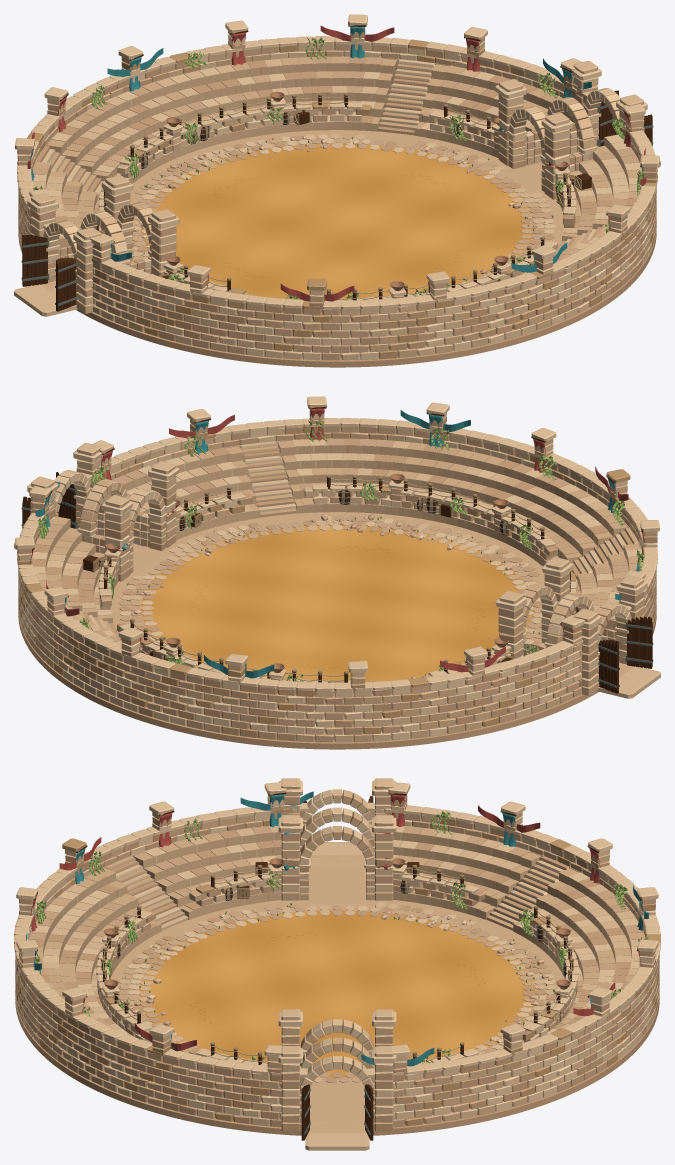
File: spellblade_arena.glb
3 renders of one model, top to bottom at view 1: azimuth 30°, elevation 25°; view 2: azimuth 150°, elevation 25°; view 3: azimuth 270°, elevation 25°, orthographic.
Visible parts, largest first — view 1: Arena_Floor | golden sand · baked PBR, Arena_Walls | sandstone 4, Arena_Stands | sandstone 1, Arena_Walls | sandstone 0, Arena_Walls | sandstone 2, Arena_Walls | sandstone 3, Arena_Walls | sandstone 1, Arena_Floor | sandstone 1, Arena_Floor | sandstone 0, Arena_Gates | sandstone 2, Arena_Gates | sandstone 4, Arena_Walls | sandstone tile · baked (+27 smaller); view 2: Arena_Floor | golden sand · baked PBR, Arena_Walls | sandstone 4, Arena_Stands | sandstone 1, Arena_Walls | sandstone 1, Arena_Walls | sandstone 0, Arena_Walls | sandstone 3, Arena_Walls | sandstone 2, Arena_Floor | sandstone 1, Arena_Floor | sandstone 0, Arena_Gates | sandstone 2, Arena_Gates | sandstone 4, Arena_Stands | sandstone 3 (+27 smaller); view 3: Arena_Floor | golden sand · baked PBR, Arena_Walls | sandstone 4, Arena_Stands | sandstone 1, Arena_Floor | sandstone 1, Arena_Walls | sandstone 0, Arena_Walls | sandstone 1, Arena_Walls | sandstone 3, Arena_Walls | sandstone 2, Arena_Floor | sandstone 0, Arena_Gates | sandstone 2, Arena_Gates | sandstone 4, Arena_Stands | sandstone 2 (+26 smaller).
Boxes of the visible parts, <box> form: Arena_Floor | golden sand · baked PBR: <box>141,143,533,300</box>; Arena_Walls | sandstone 4: <box>15,14,659,360</box>; Arena_Stands | sandstone 1: <box>22,54,650,325</box>; Arena_Walls | sandstone 0: <box>18,31,657,350</box>; Arena_Walls | sandstone 2: <box>17,34,651,360</box>; Arena_Walls | sandstone 3: <box>17,27,656,360</box>; Arena_Walls | sandstone 1: <box>17,45,657,357</box>; Arena_Floor | sandstone 1: <box>42,130,564,295</box>; Arena_Floor | sandstone 0: <box>18,131,656,367</box>; Arena_Gates | sandstone 2: <box>30,61,644,305</box>; Arena_Gates | sandstone 4: <box>27,68,647,288</box>; Arena_Walls | sandstone tile · baked: <box>18,39,657,359</box>; Arena_Floor | golden sand · baked PBR: <box>141,525,533,682</box>; Arena_Walls | sandstone 4: <box>15,396,659,740</box>; Arena_Stands | sandstone 1: <box>29,437,648,715</box>; Arena_Walls | sandstone 1: <box>18,419,657,742</box>; Arena_Walls | sandstone 0: <box>18,409,657,741</box>; Arena_Walls | sandstone 3: <box>17,416,652,742</box>; Arena_Walls | sandstone 2: <box>17,423,656,742</box>; Arena_Floor | sandstone 1: <box>110,512,632,677</box>; Arena_Floor | sandstone 0: <box>18,513,656,749</box>; Arena_Gates | sandstone 2: <box>31,443,644,687</box>; Arena_Gates | sandstone 4: <box>27,450,647,670</box>; Arena_Stands | sandstone 3: <box>39,438,628,697</box>; Arena_Floor | golden sand · baked PBR: <box>139,910,535,1077</box>; Arena_Walls | sandstone 4: <box>14,782,660,1119</box>; Arena_Stands | sandstone 1: <box>20,824,654,1089</box>; Arena_Floor | sandstone 1: <box>110,855,564,1133</box>; Arena_Walls | sandstone 0: <box>15,795,659,1127</box>; Arena_Walls | sandstone 1: <box>15,812,659,1121</box>; Arena_Walls | sandstone 3: <box>15,795,659,1127</box>; Arena_Walls | sandstone 2: <box>15,802,659,1126</box>; Arena_Floor | sandstone 0: <box>15,905,659,1135</box>; Arena_Gates | sandstone 2: <box>281,778,393,1116</box>; Arena_Gates | sandstone 4: <box>278,780,396,1102</box>; Arena_Stands | sandstone 2: <box>43,826,639,1029</box>.
Size of what is drawn, in the model's own units: 44.8 by 5.81 by 40.2.
Materials: 18 (3 with a texture image).
